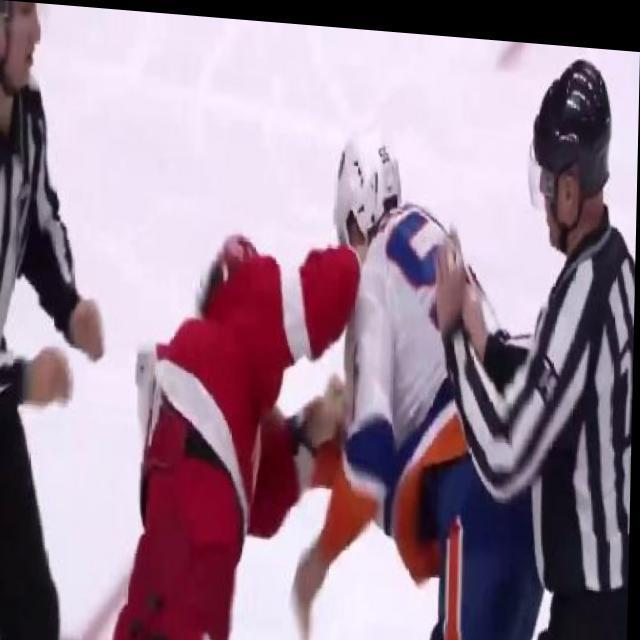fight: (155, 105, 464, 640)
